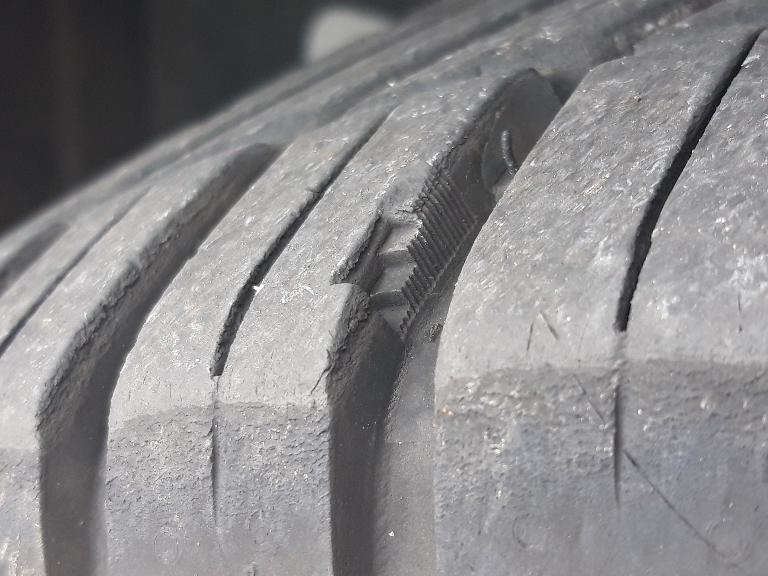temoin:80: (319, 146, 489, 349)
